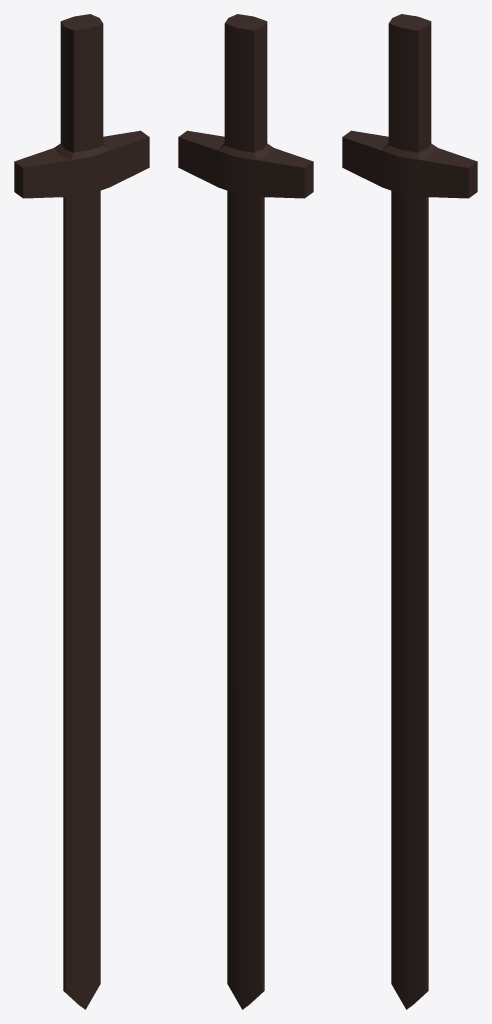
File: jian.fbx
3 renders of one model, left to right at view 1: azimuth 30°, elevation 25°; view 2: azimuth 150°, elevation 25°; view 3: azimuth 330°, elevation 25°, orthographic.
Parts seen in each view (by area): view 1: jian; view 2: jian; view 3: jian.
Part boxes in pixels (x1=…): jian: x1=14, y1=14, x2=149, y2=1009; jian: x1=178, y1=14, x2=313, y2=1009; jian: x1=342, y1=14, x2=477, y2=1009.
Size of the model in its own units: 0.6646 by 4.95 by 0.1892.
